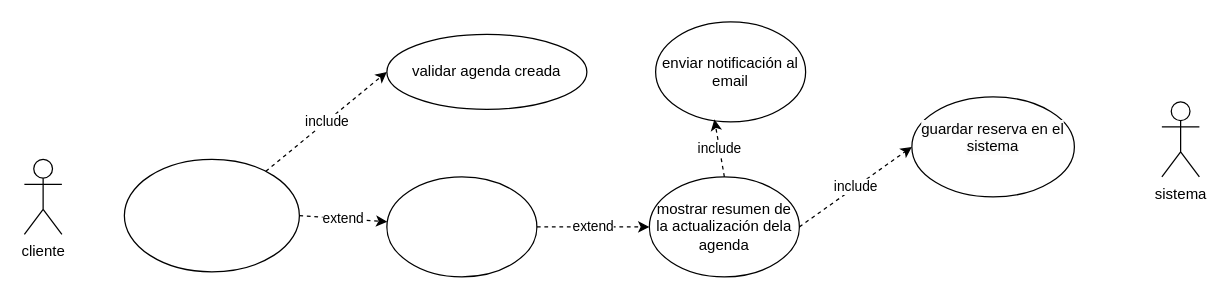
The diagram is 1228 pixels wide and 299 high, and some of its shapes have lost their labels. Here are the shapes that lost their labels. From the top down, the centre of each, then its label:
the point at 211,215: acceso a modulo de actualización de agenda
the point at 461,226: ingresar datos actualizados de agenda
